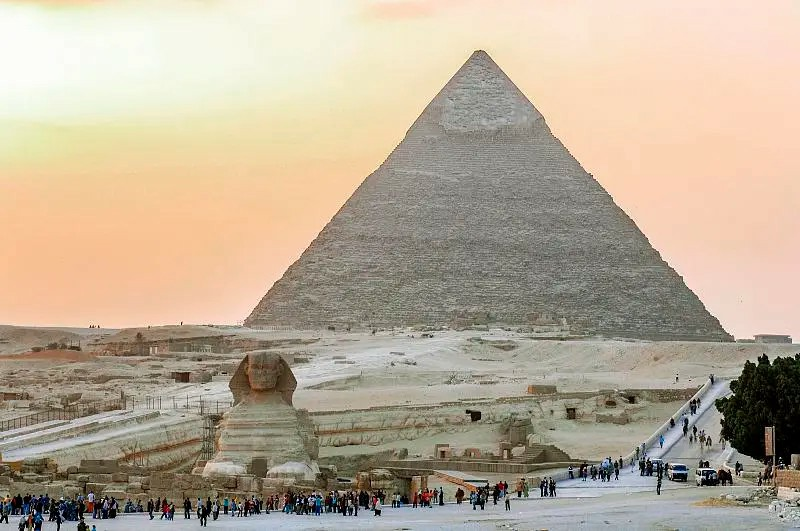Pyramid: (244, 50, 735, 342)
